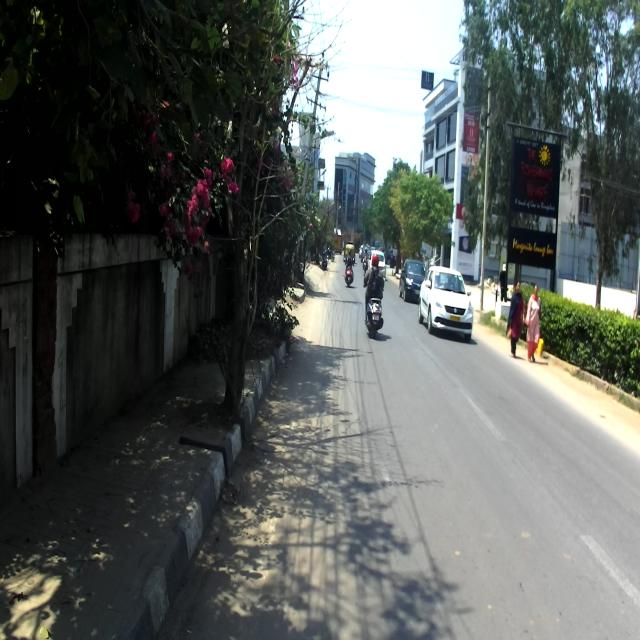car ahead at: (419, 263, 477, 343)
tree ahead at: (172, 111, 268, 416)
